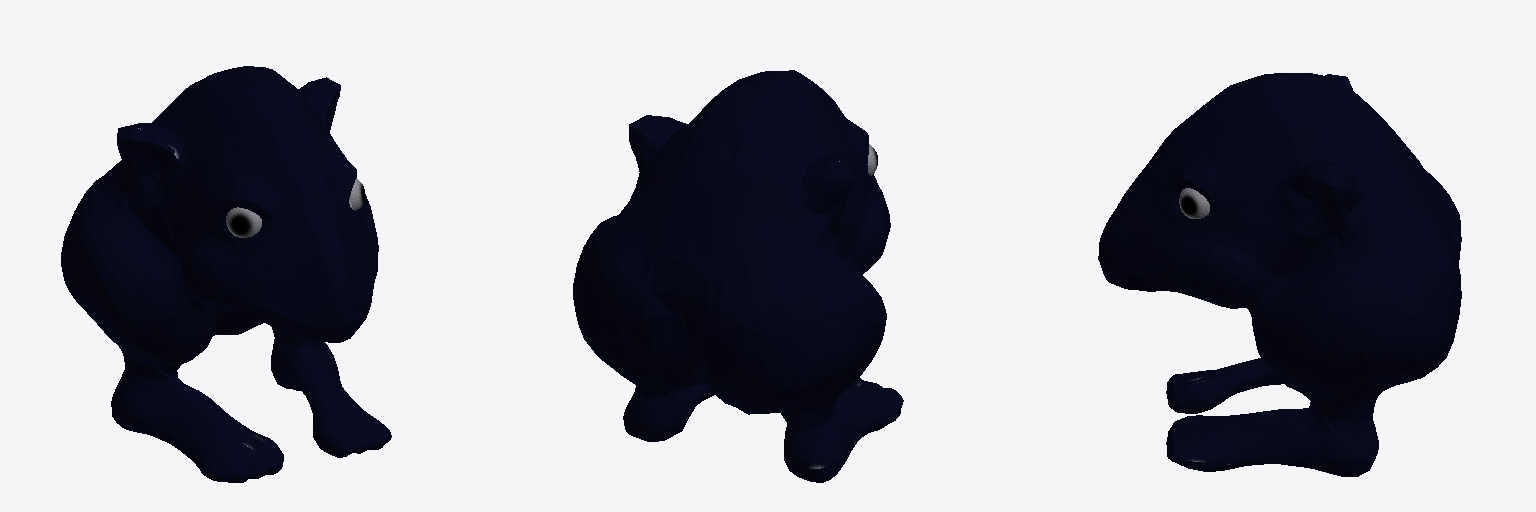
3 views of the same model, side by side, from view 1: azimuth 30°, elevation 25°; view 2: azimuth 150°, elevation 25°; view 3: azimuth 270°, elevation 25° (orthographic).
Parts seen in each view (by area): view 1: BSurfaceMesh; view 2: BSurfaceMesh; view 3: BSurfaceMesh.
Boxes of the visible parts, box(x1,y1,x2,y2) form: BSurfaceMesh: box(61, 66, 391, 482); BSurfaceMesh: box(573, 70, 903, 482); BSurfaceMesh: box(1098, 73, 1461, 476).
Size of the model in its own units: 2.79 by 3.37 by 3.13.
1 materials, 1 textured.